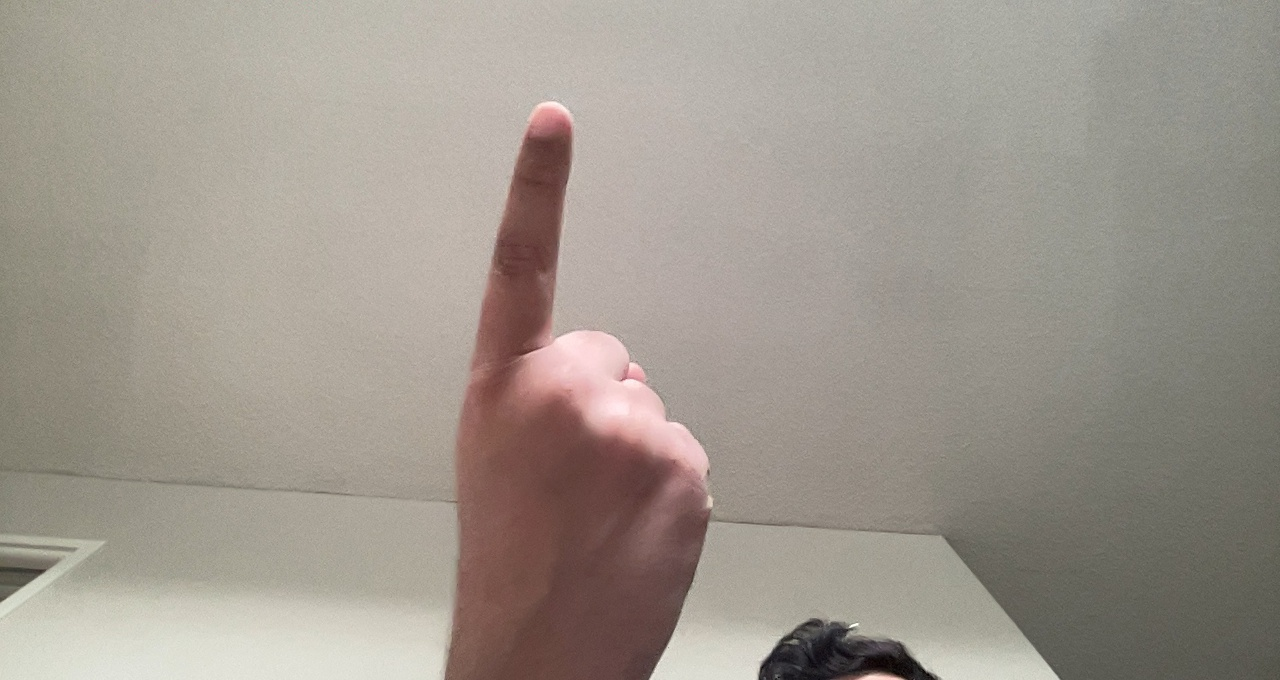fingerup: (459, 92, 731, 636)
